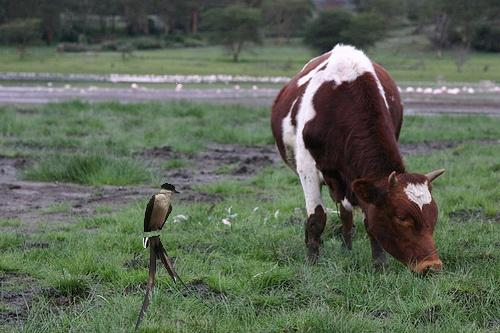tampered: (136, 84, 233, 331)
